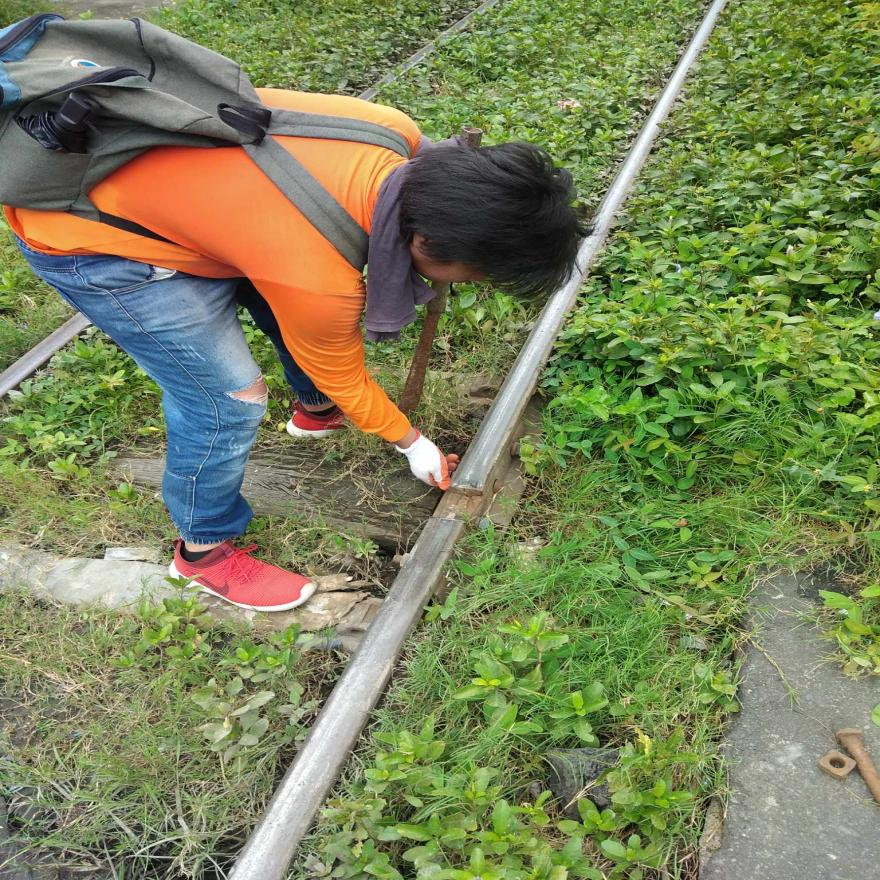railway-gap: (427, 480, 494, 536)
